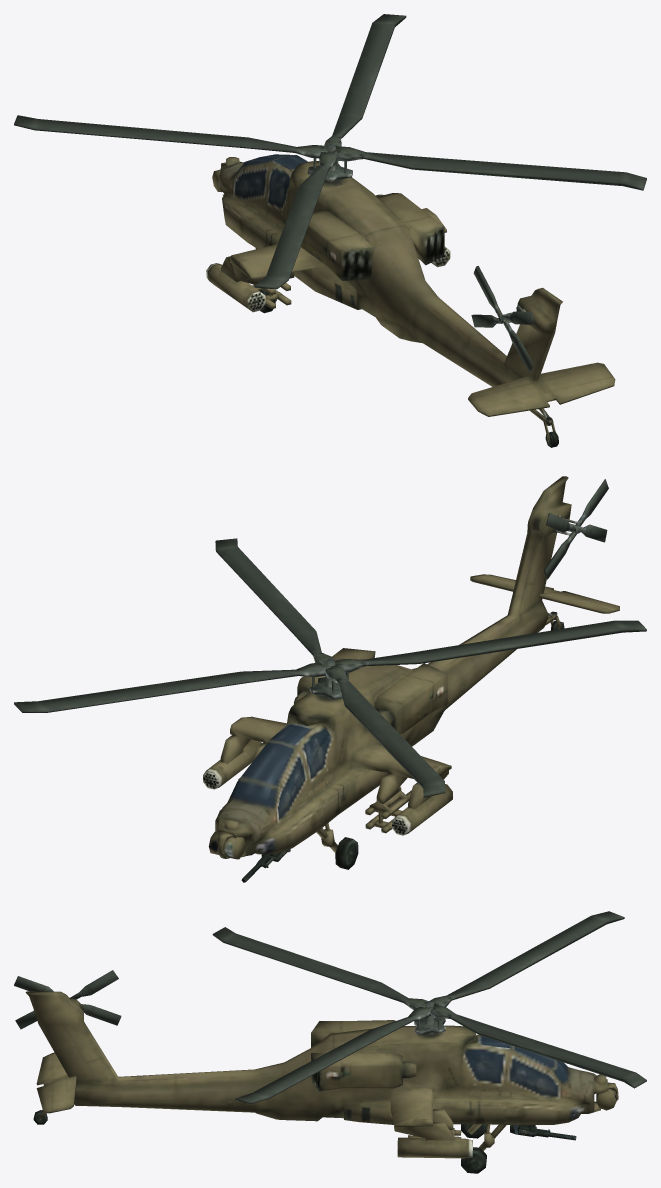
The model's file is apache.ade84f0095.glb.
The picture shows the model from 3 angles, top to bottom: view 1: azimuth 30°, elevation 25°; view 2: azimuth 150°, elevation 25°; view 3: azimuth 270°, elevation 25°; orthographic projection. The views are drawn at different scales.
Parts seen in each view (by area): view 1: apache_0, apache_rotor, apache_tail; view 2: apache_0, apache_rotor, apache_tail; view 3: apache_0, apache_rotor, apache_tail.
Boxes of the visible parts, <box> form: apache_0: <box>206,154,615,447</box>; apache_rotor: <box>14,14,646,289</box>; apache_tail: <box>471,266,534,371</box>; apache_0: <box>203,476,619,882</box>; apache_rotor: <box>14,538,646,797</box>; apache_tail: <box>544,479,608,579</box>; apache_0: <box>25,991,618,1173</box>; apache_rotor: <box>212,911,646,1103</box>; apache_tail: <box>14,970,121,1029</box>.
Bounding box in the file's own units: 19.22 × 8.28 × 28.
1 material, 1 textured.
